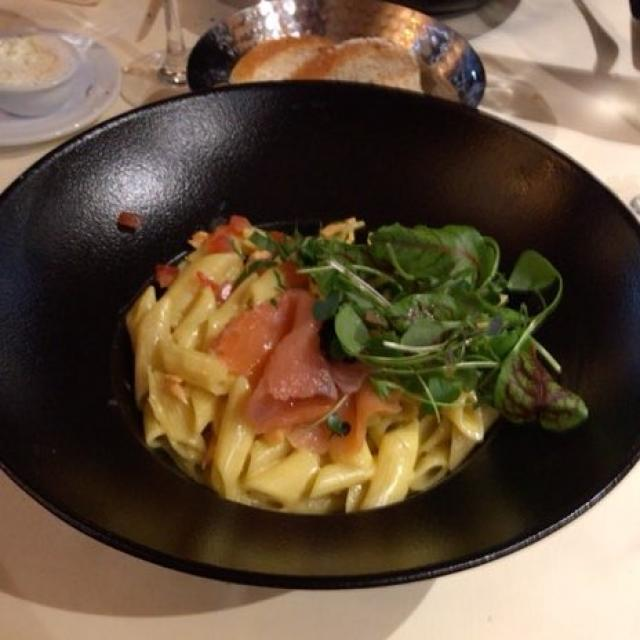pasta-penne: (142, 229, 476, 515)
salad-leaf-salad-green: (316, 205, 582, 427)
salmon-smoked: (214, 280, 438, 427)
